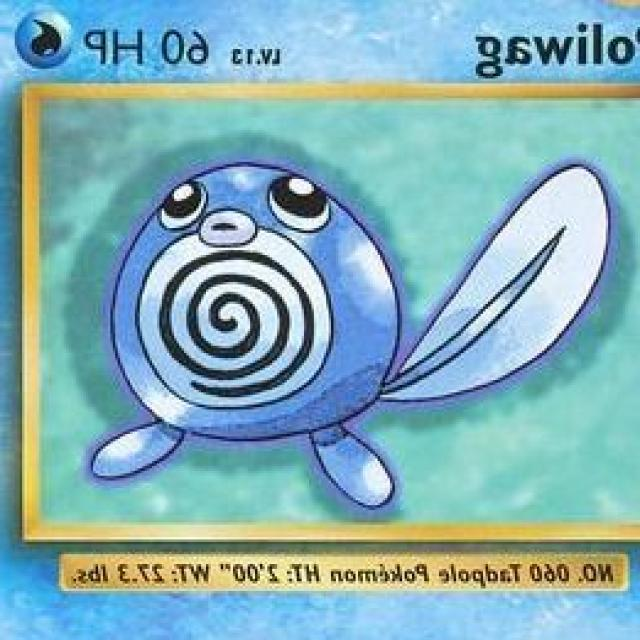Poliwag: (102, 152, 418, 509)
